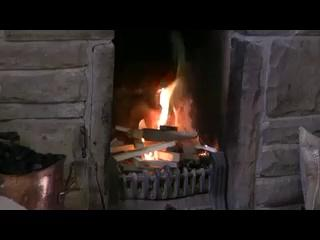Fire: (137, 64, 192, 129)
